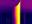Hotspot: (15, 2, 20, 23)
